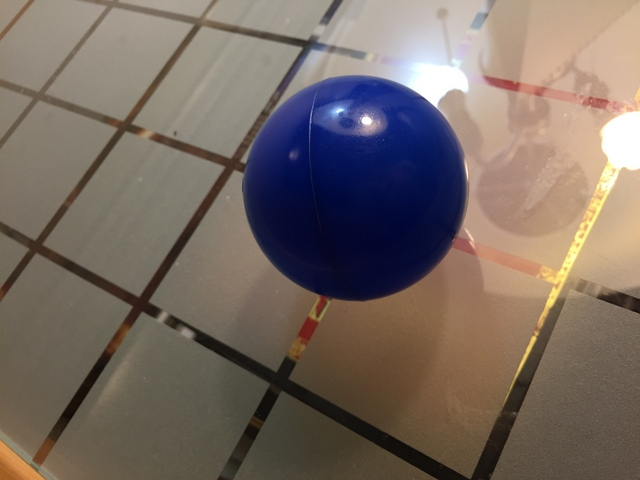Ball: (242, 76, 470, 303)
